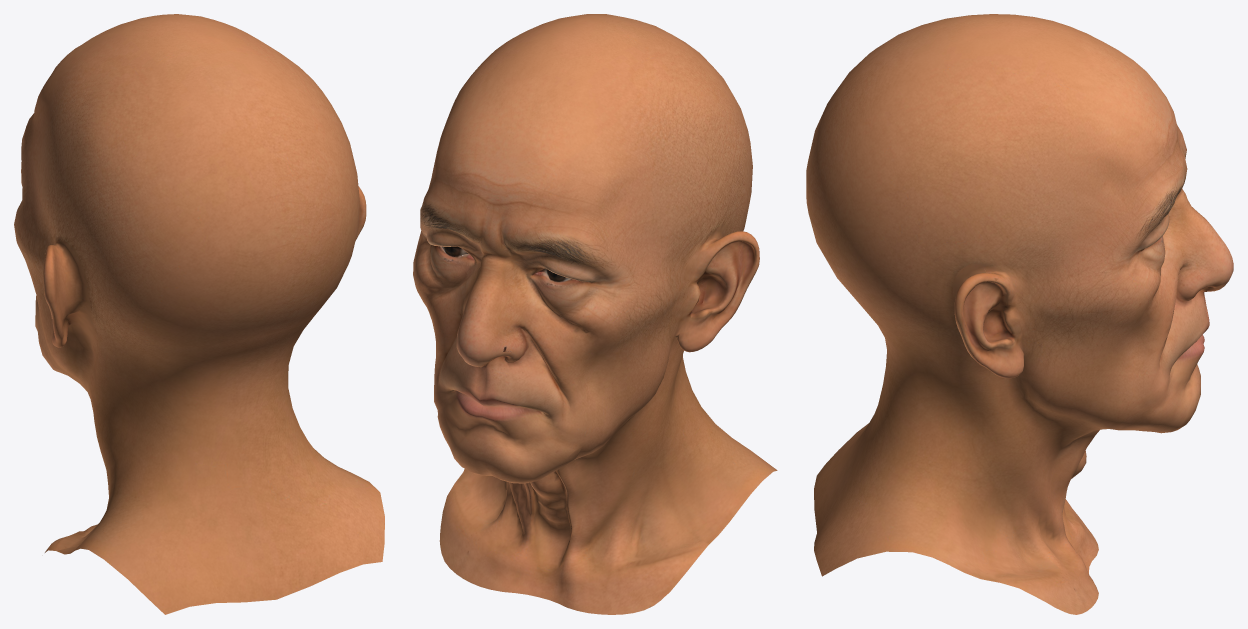
Rendered from Model_HairHead_OldGeng.glb.
The picture shows the model from 3 angles, left to right: view 1: azimuth 30°, elevation 25°; view 2: azimuth 150°, elevation 25°; view 3: azimuth 270°, elevation 25°; orthographic projection. The views are drawn at different scales.
Parts seen in each view (by area): view 1: HairHead_OldGeng; view 2: HairHead_OldGeng; view 3: HairHead_OldGeng.
Part boxes in pixels (box(x1,y1,x2,y2)): HairHead_OldGeng: box(14, 14, 384, 614); HairHead_OldGeng: box(413, 14, 777, 614); HairHead_OldGeng: box(806, 14, 1233, 614).
Size of the model in its own units: 0.2056 by 0.3306 by 0.235.
1 material, 1 textured.
